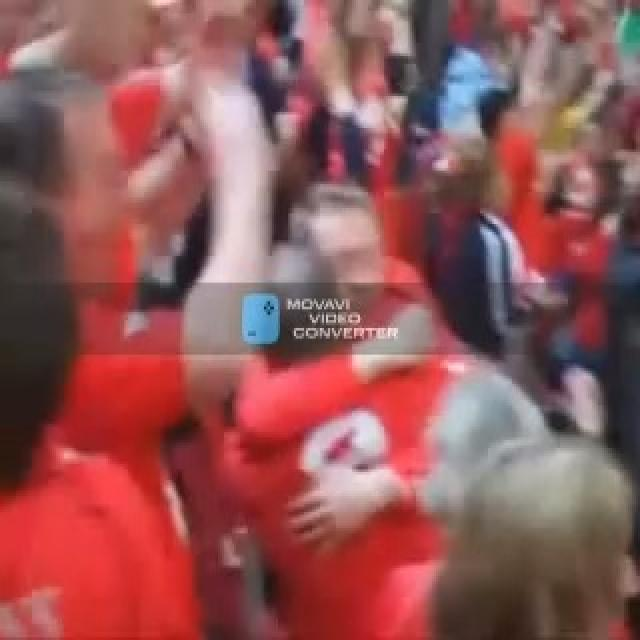non-voilence: (0, 0, 638, 637), (282, 293, 398, 344)
